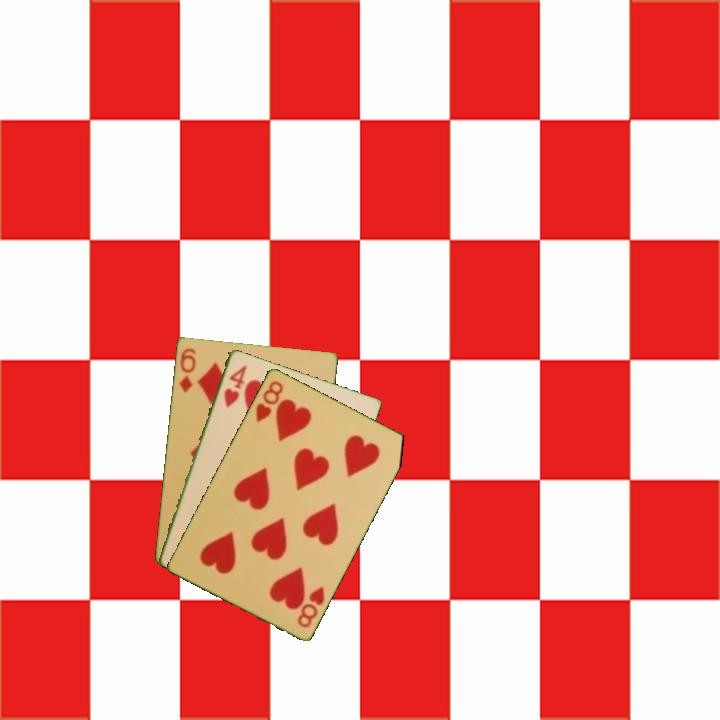4h: (220, 361, 249, 411)
6d: (175, 344, 198, 395)
8h: (252, 377, 286, 425), (294, 582, 327, 630)
